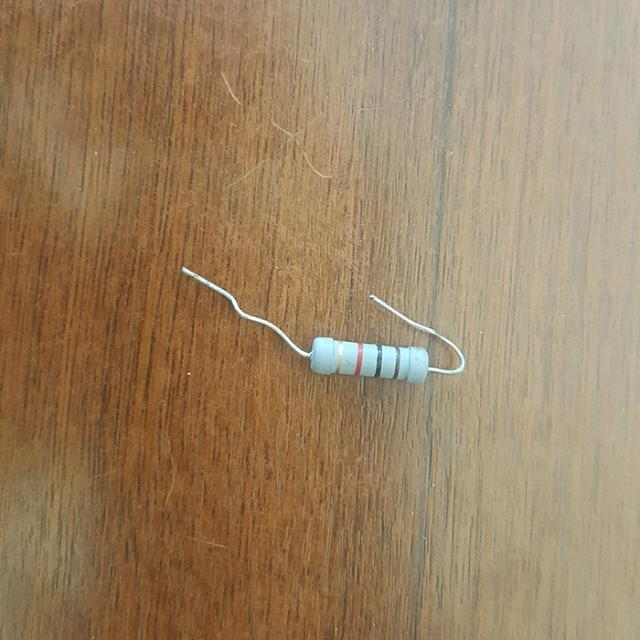black: (376, 346, 383, 375)
brown: (396, 347, 400, 377)
gold: (338, 342, 342, 371)
red: (356, 345, 364, 373)
resistor: (309, 334, 430, 388)
